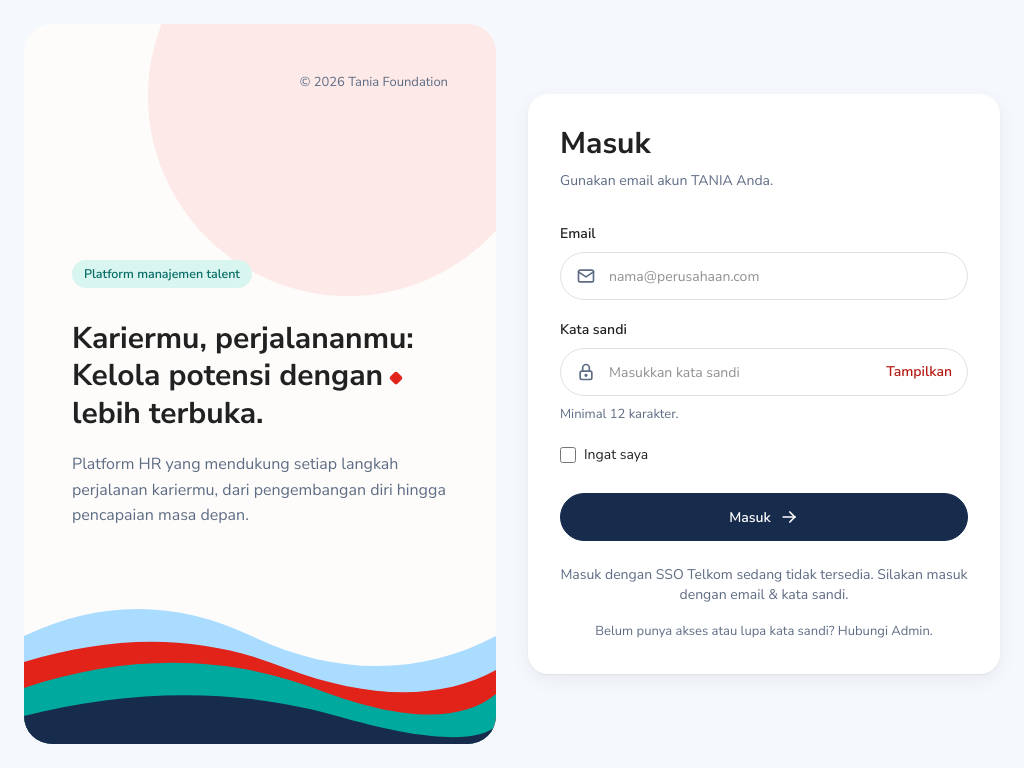
LoginForm › shows an error message when the mutation fails
Type "ada@tania.id" into the field labelled "Email". click: (764, 276)
box: [560, 252, 968, 300]
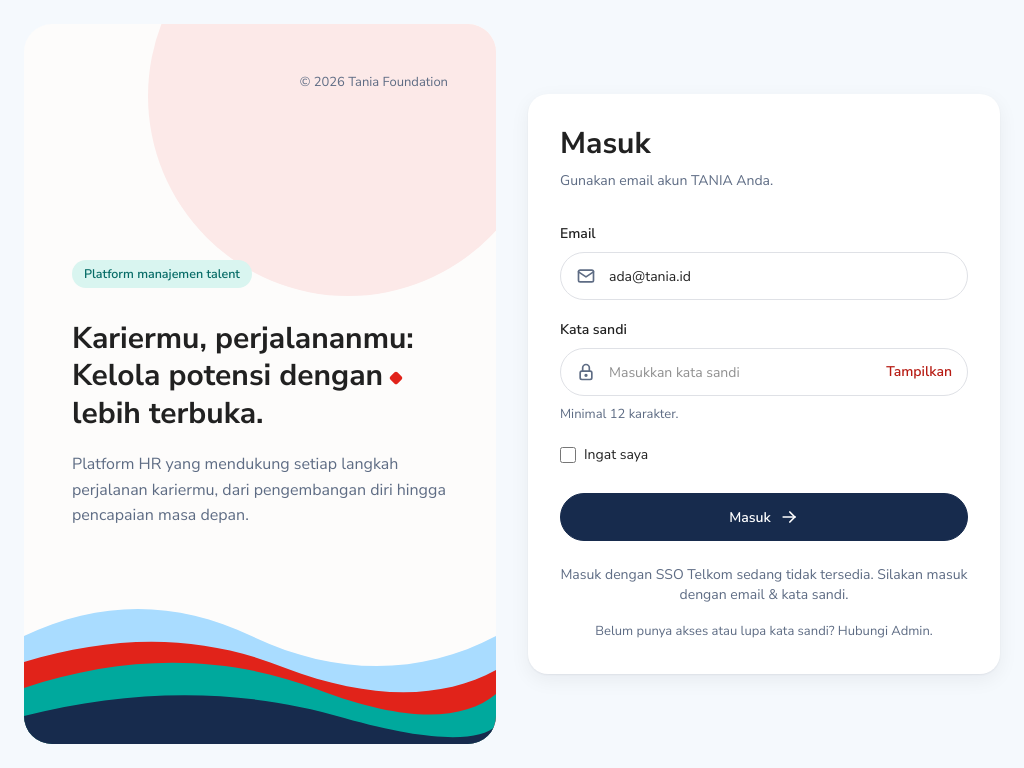
Type "wrong" into the password field labelled "Kata sandi". click: (764, 372)
box: [560, 348, 968, 396]
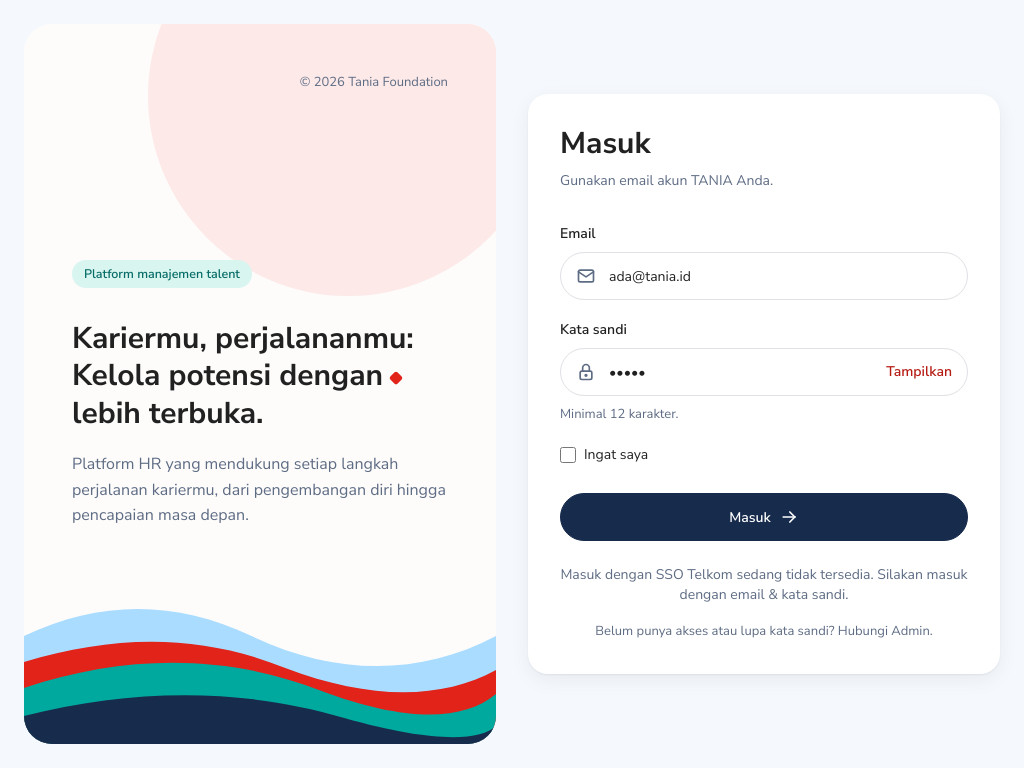
Click the button "Masuk". click: (764, 517)
box: [560, 493, 968, 541]
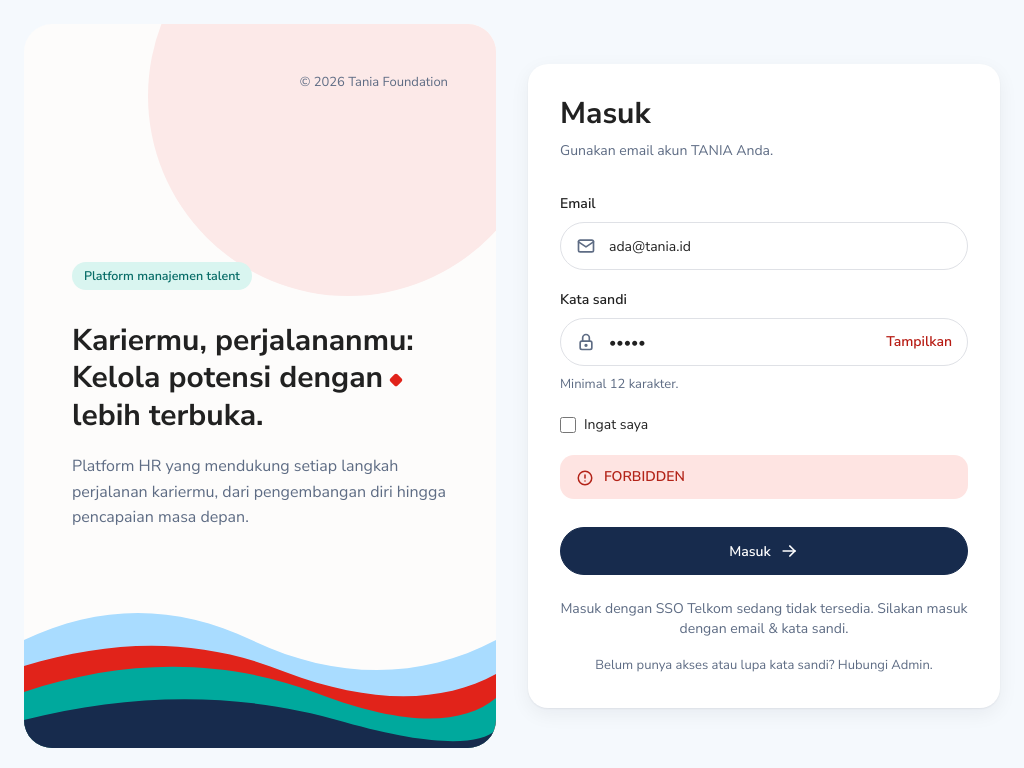
Expected: the message "FORBIDDEN" is shown, [560, 455, 968, 499]
